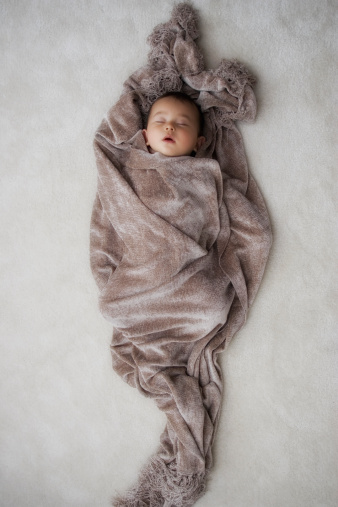deitado: (71, 34, 275, 496)
